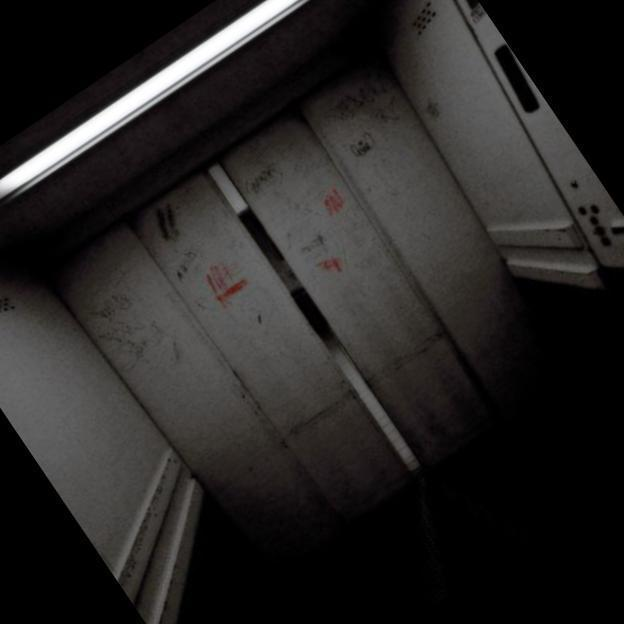Puerta: (124, 109, 506, 538)
